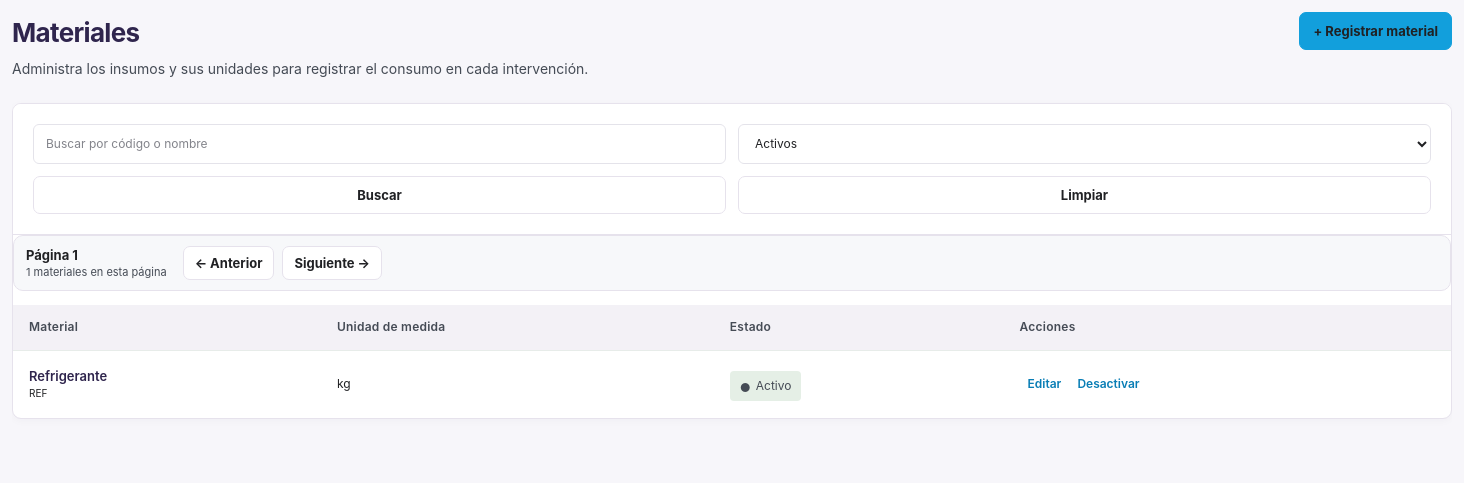
Scenario: Materiales con permisos y operaciones asíncronas › aplica el estado sin pulsar Buscar y limpia los filtros
The image size is (1464, 483).
Expected: the text "Refrigerante" is shown, [29,368,107,384]
Step 1. Select "Inactivos" in the dropdown named "Estado del material" → (1084,144), box [738,124,1431,164]
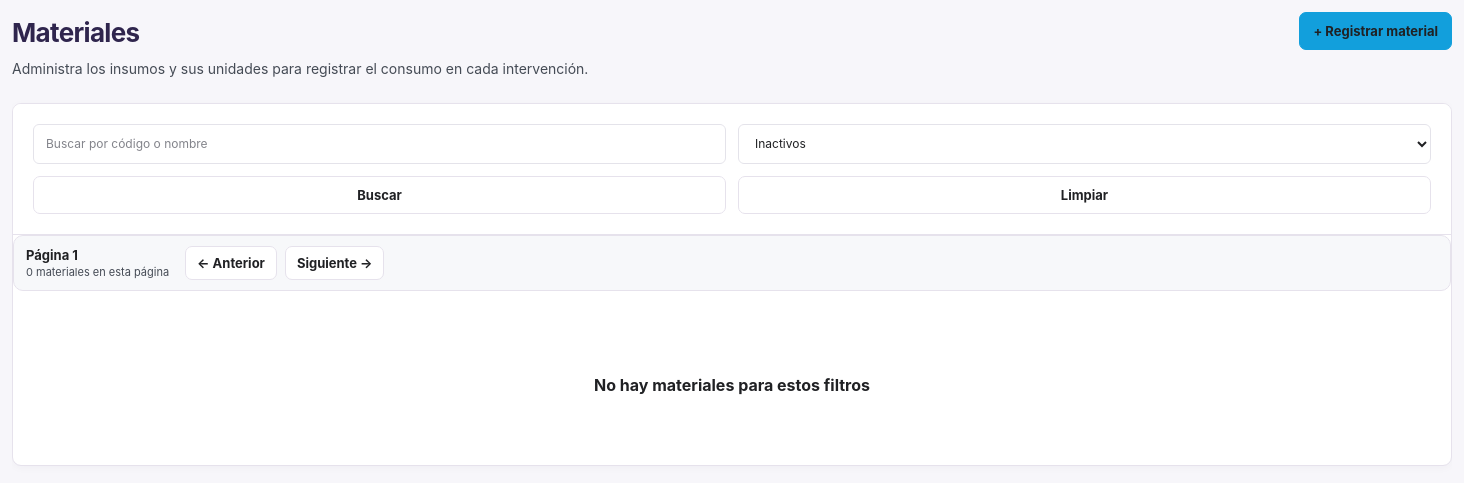
Expected: the text "No hay materiales para estos filtros" is shown, [594,375,870,395]
Step 2. Click the button "Limpiar" → (1084,195), box [738,176,1431,214]
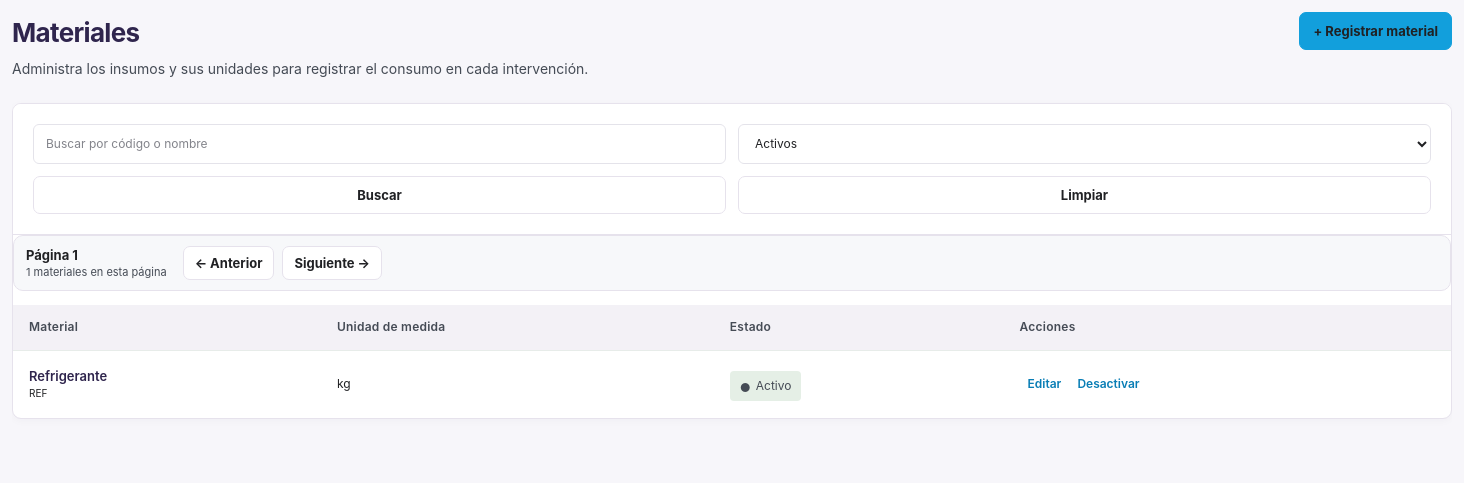
Expected: the text "Refrigerante" is shown, [29,368,107,384]
